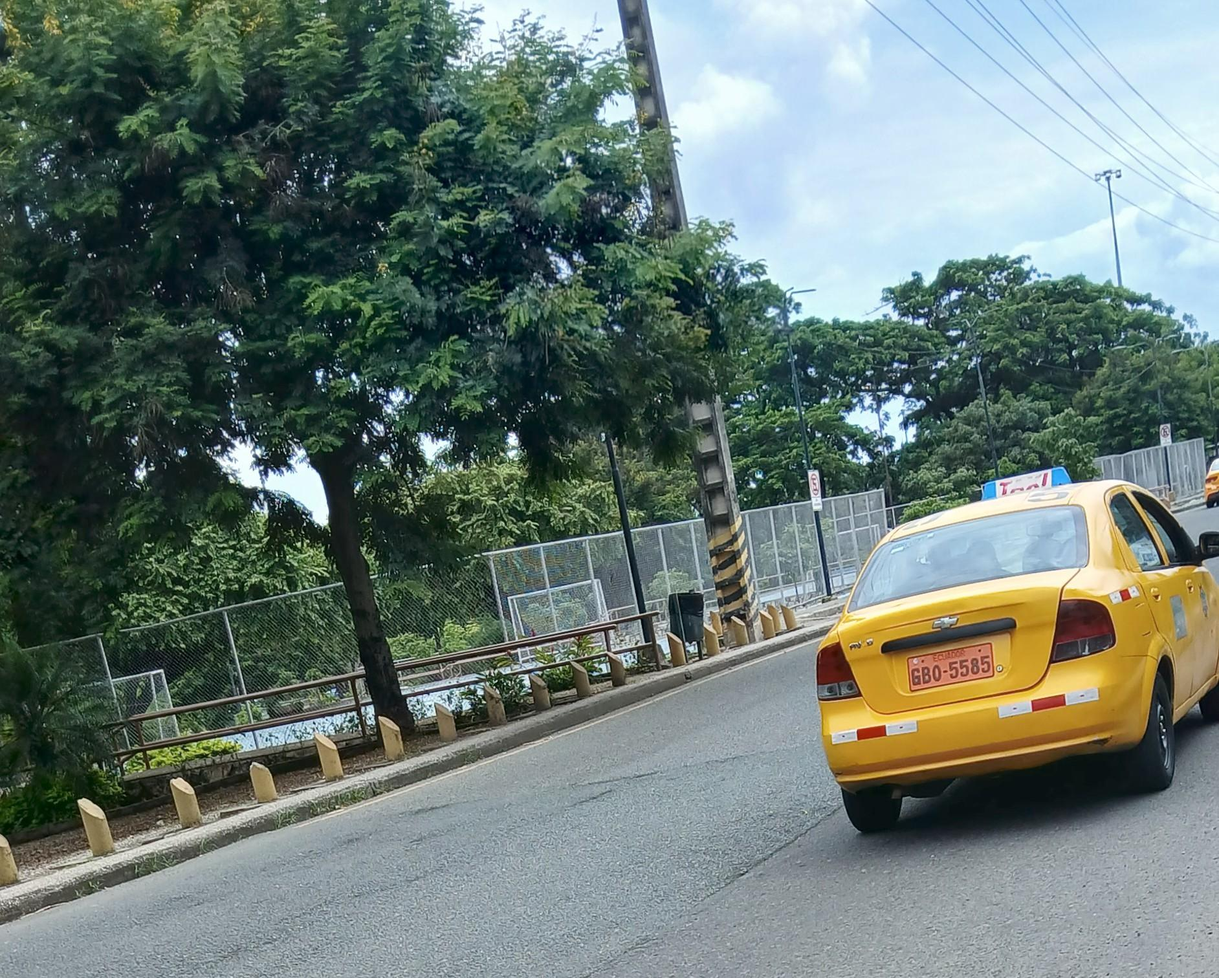license_plate: (905, 640, 996, 691)
